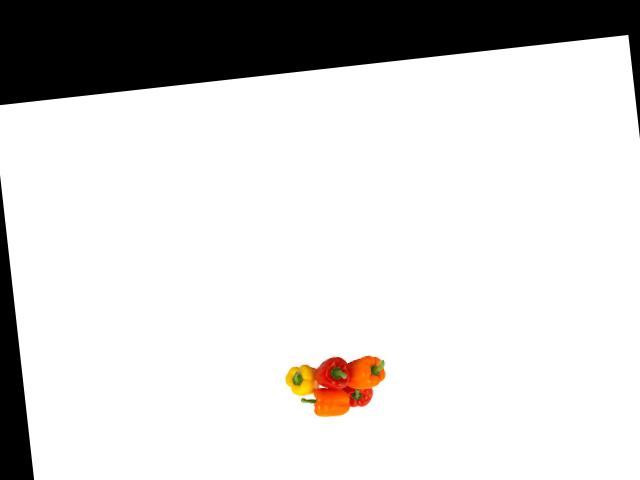bell_pepper: (342, 349, 396, 394)
